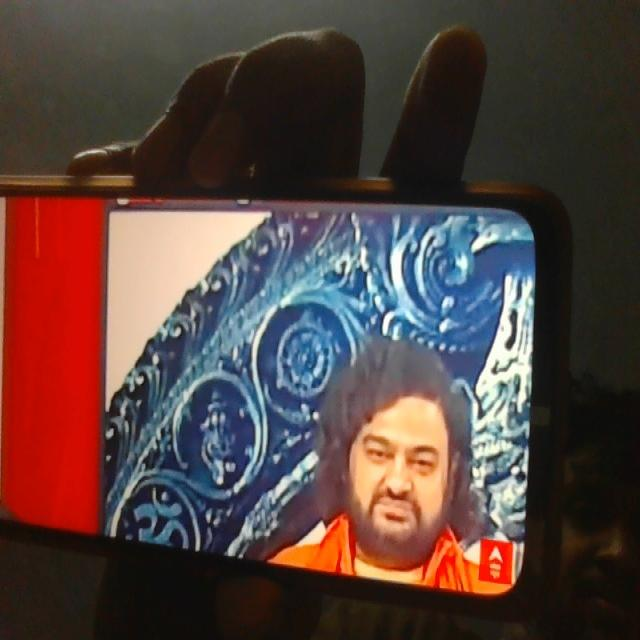fake: (331, 325, 461, 572)
